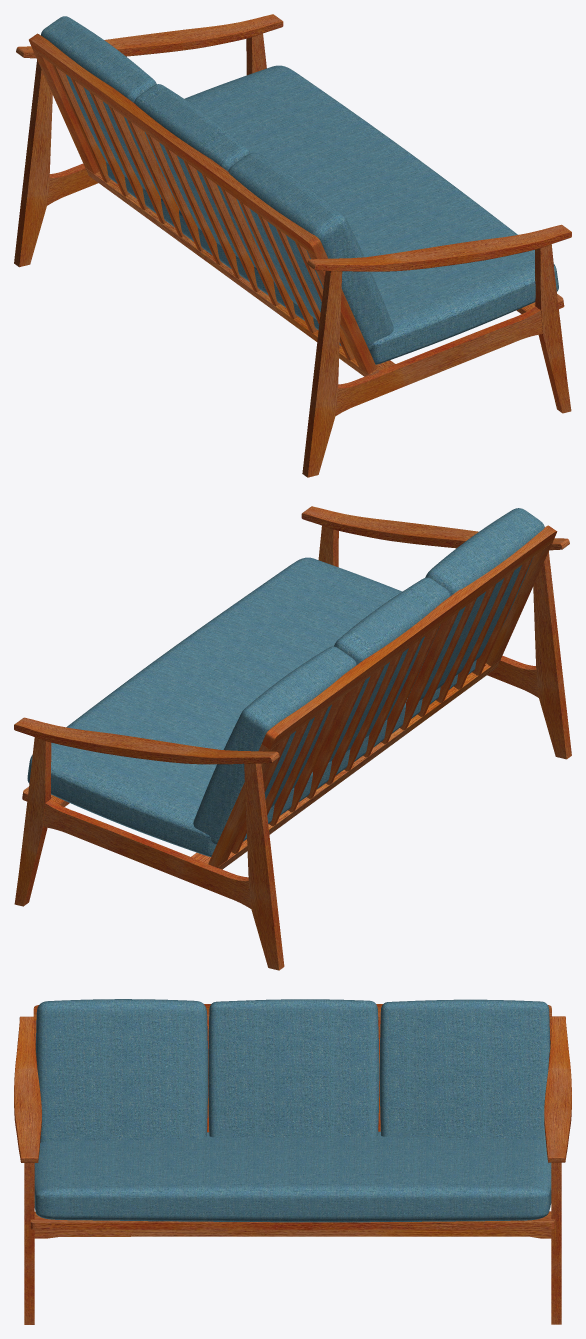
The model's file is RAYTEXT5.compressed.glb.
3 views of the same model, one above another, from view 1: azimuth 30°, elevation 25°; view 2: azimuth 150°, elevation 25°; view 3: azimuth 270°, elevation 25° (orthographic). The views are drawn at different scales.
Visible parts, largest first — view 1: Cube.032, Cube; view 2: Cube.032, Cube; view 3: Cube.032, Cube.
Boxes of the visible parts, x1=… form: Cube.032: x1=41, y1=16, x2=558, y2=364; Cube: x1=14, y1=14, x2=571, y2=477; Cube.032: x1=27, y1=508, x2=544, y2=856; Cube: x1=14, y1=506, x2=571, y2=970; Cube.032: x1=34, y1=999, x2=551, y2=1222; Cube: x1=14, y1=1004, x2=571, y2=1324.
Size of the model in its own units: 3.67 by 3.24 by 7.25.
Materials: 2 (2 with a texture image).
